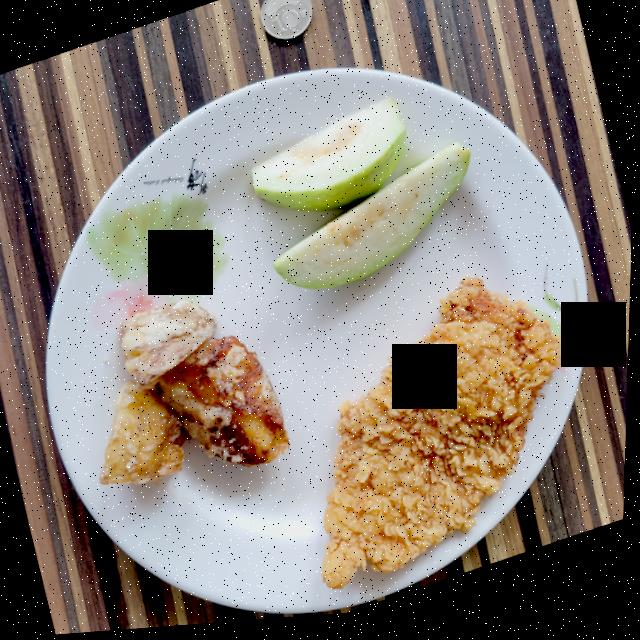coin: (260, 0, 313, 44)
fried chicken cutlet: (325, 284, 567, 594)
fried potato: (102, 303, 292, 486)
guava -sliced-: (253, 103, 471, 294)
